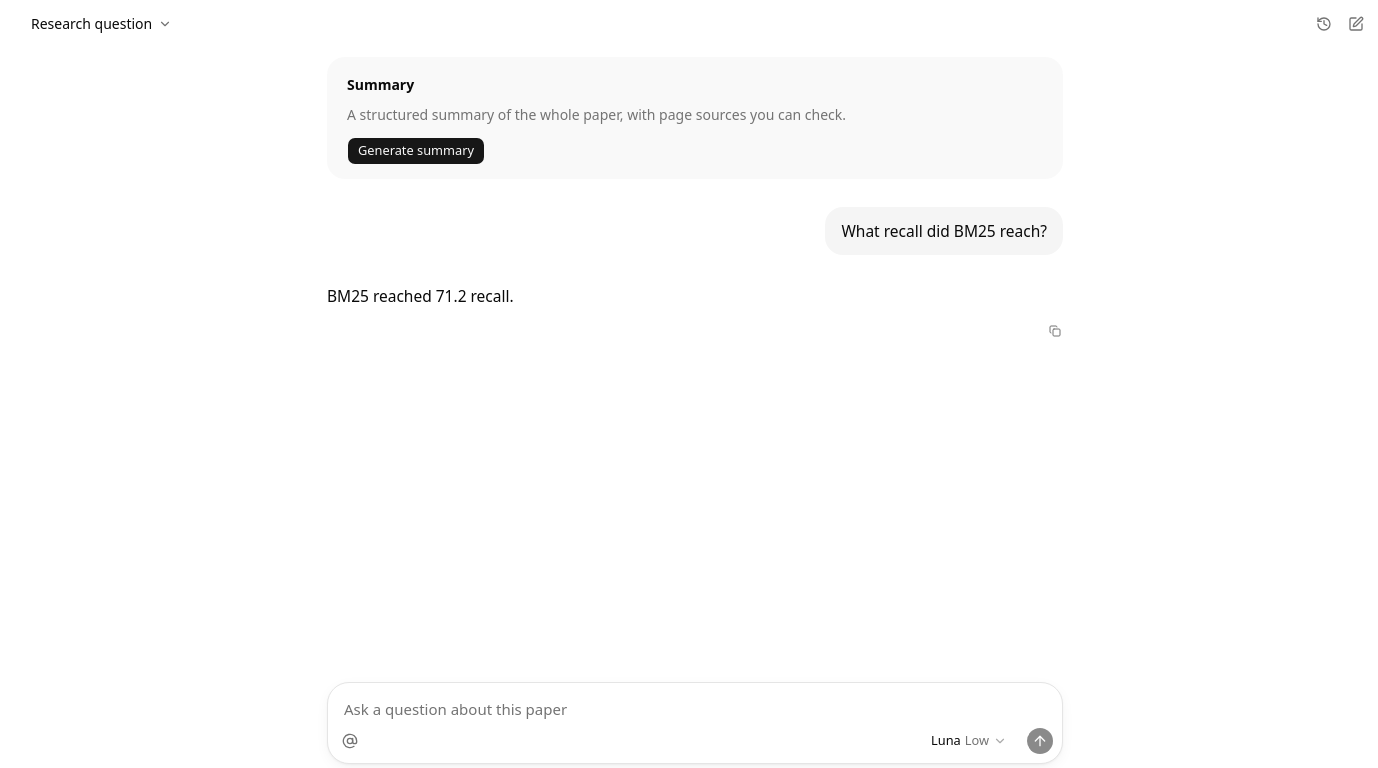
Test case: Given a question completes, Then memory is fetched again and a new summary appears in the footnote
This screenshot has width=1378, height=768.
Type "And DPR?" into the field named "Question about this paper". click: (695,705)
box: 328,683 -> 1062,727
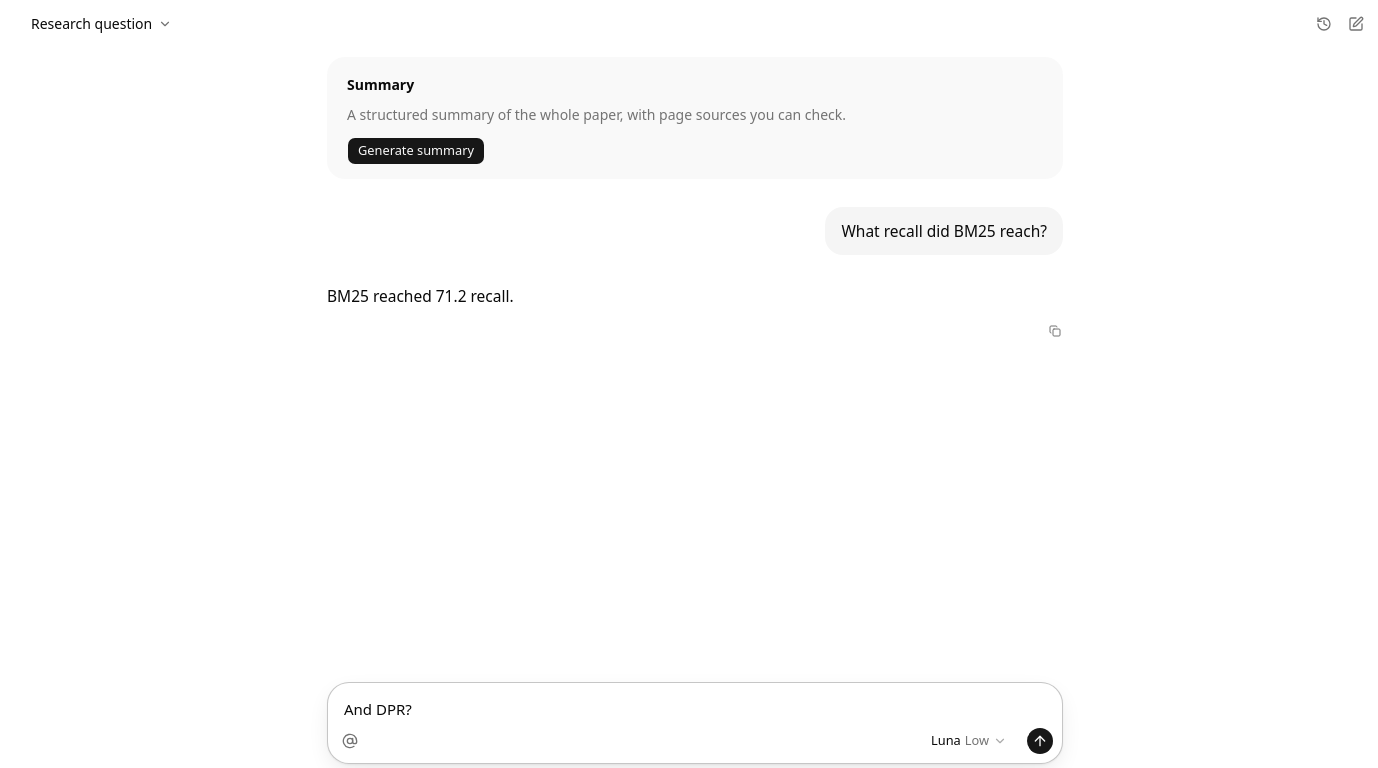
Click the button named "Ask question". click: (1040,741)
box: 1026,727 -> 1054,755
(page scrolled)
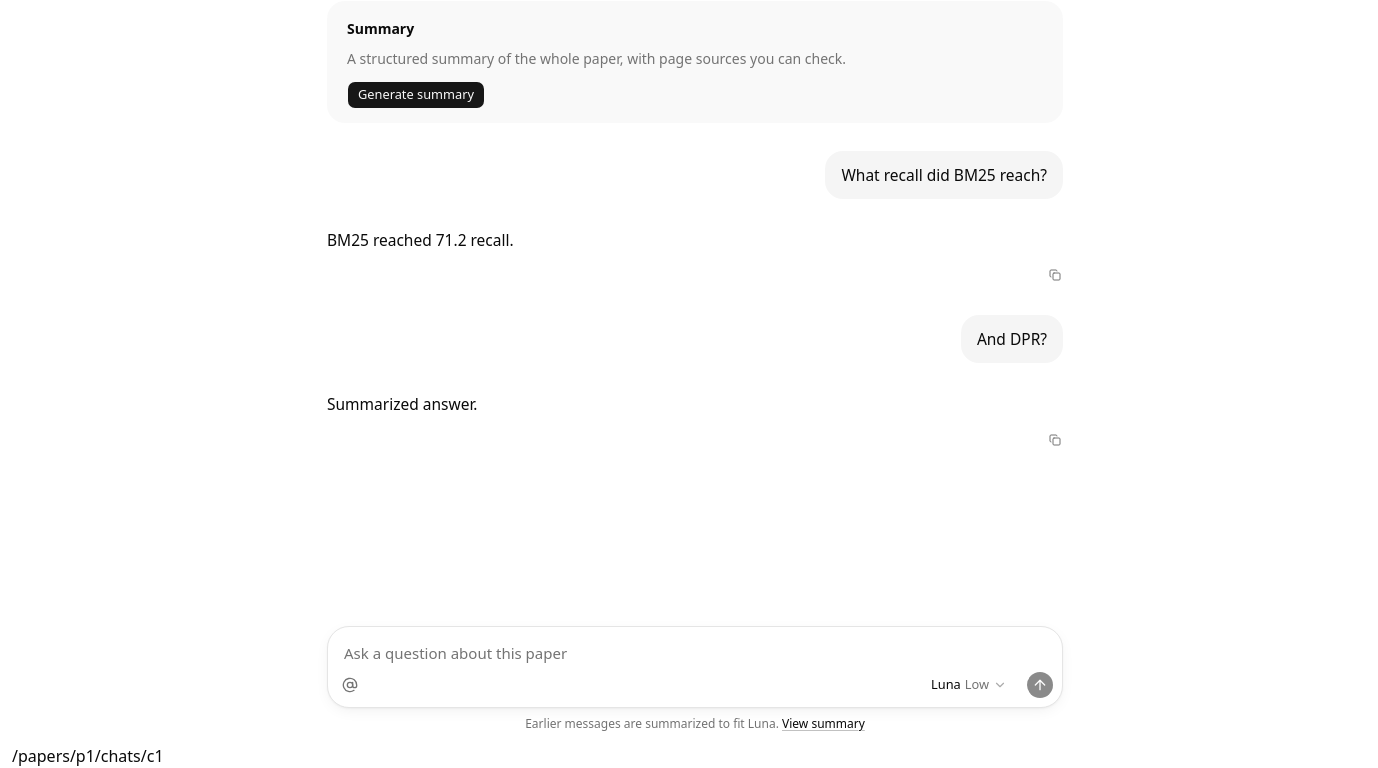
Check: the text "Earlier messages are summarized to fit Luna." is shown, box 525,715 -> 779,732
